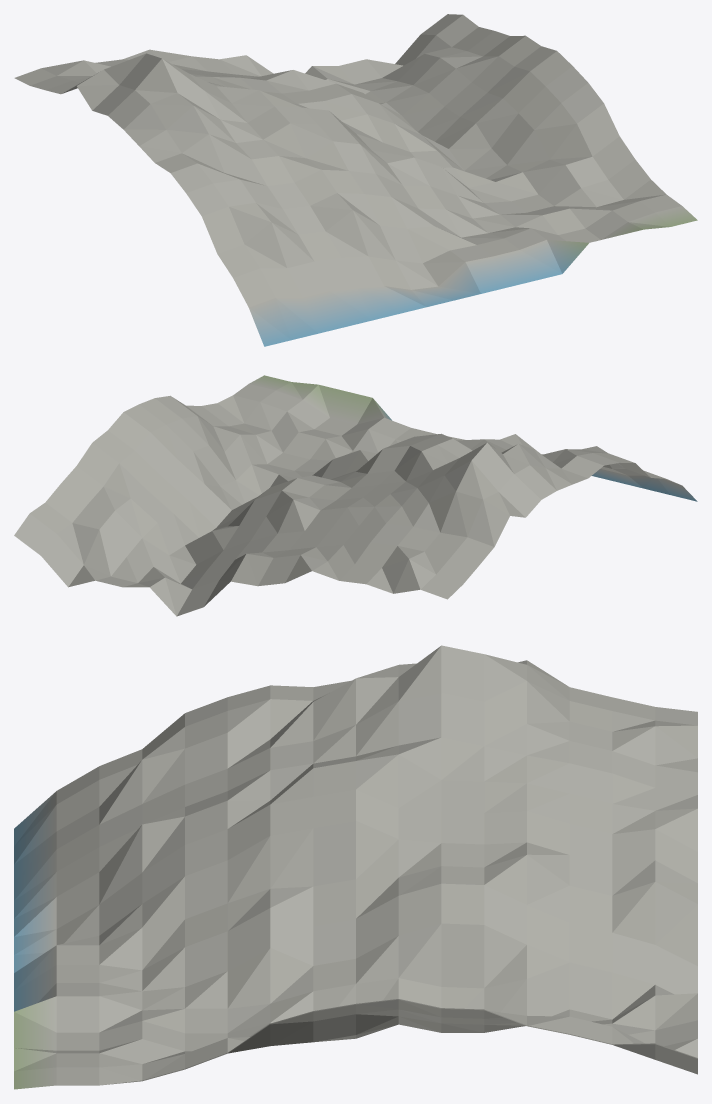
3 renders of one model, top to bottom at view 1: azimuth 30°, elevation 25°; view 2: azimuth 150°, elevation 25°; view 3: azimuth 270°, elevation 25°, orthographic. The views are drawn at different scales.
Size of the model in its own units: 32 by 11.33 by 32.
